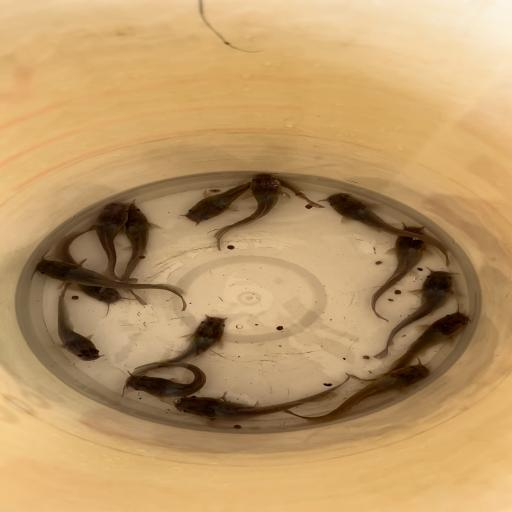lele: (326, 192, 452, 268), (116, 314, 229, 398), (278, 363, 431, 423), (346, 310, 472, 382), (174, 374, 354, 422), (34, 256, 188, 312), (372, 269, 459, 361), (178, 177, 326, 227), (368, 225, 430, 323), (52, 222, 122, 308), (211, 172, 285, 250), (54, 257, 104, 365), (119, 202, 160, 306), (91, 202, 139, 285), (121, 360, 207, 398)
